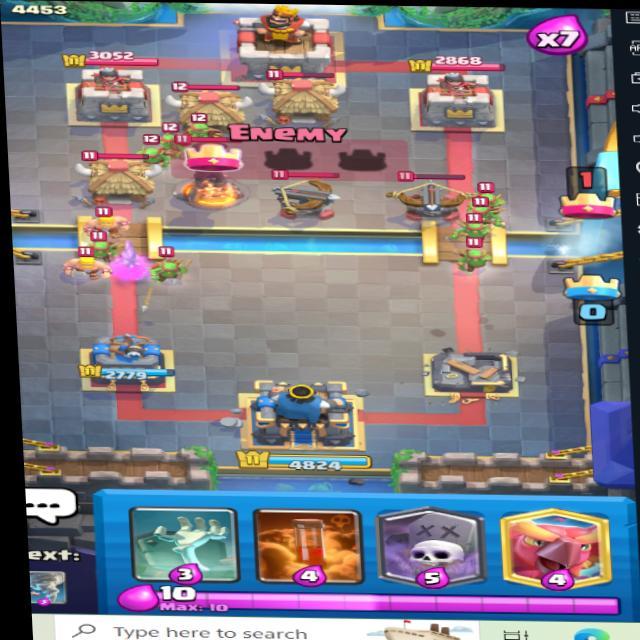Barbarian: (62, 244, 128, 281), (77, 207, 142, 242)
Goblinhut: (162, 78, 253, 138), (72, 146, 166, 204), (257, 67, 348, 124)
Infernotower: (157, 125, 257, 213)
Speargoblin: (451, 209, 494, 248), (456, 235, 498, 273), (145, 246, 189, 277), (132, 134, 174, 165), (91, 228, 128, 260), (178, 114, 219, 140), (150, 123, 183, 154), (476, 184, 514, 210), (469, 192, 498, 225)
Xbow: (387, 160, 479, 222), (257, 161, 348, 219)
